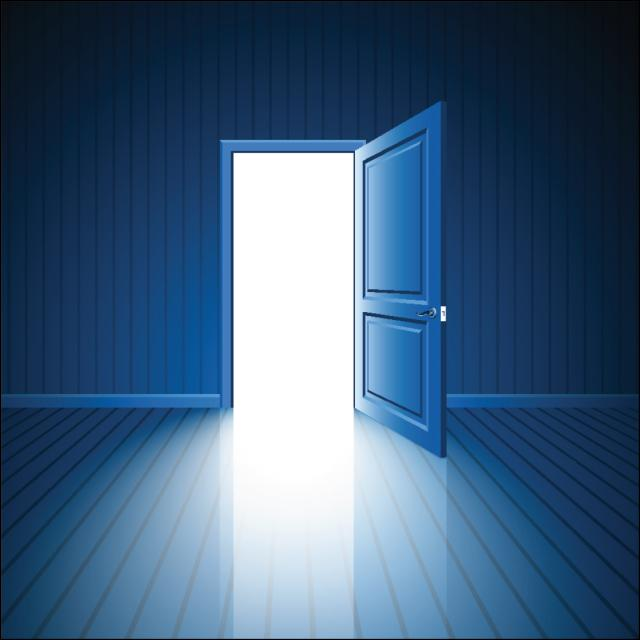open: (221, 136, 445, 440)
